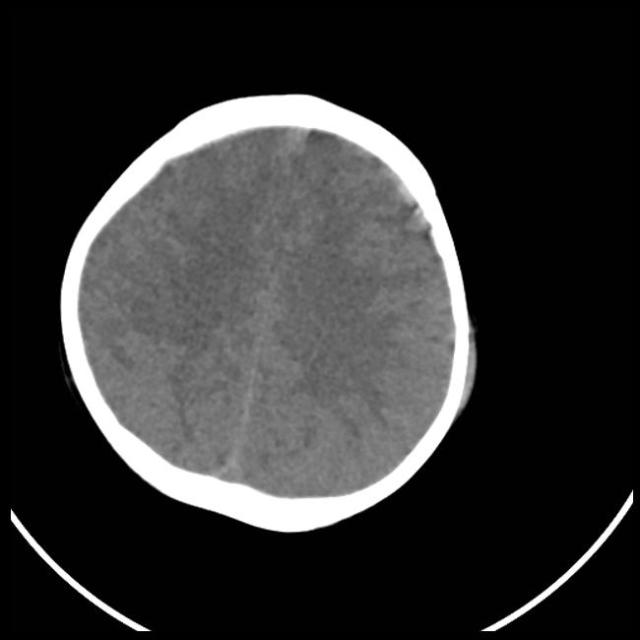lesion: (58, 92, 480, 530)
